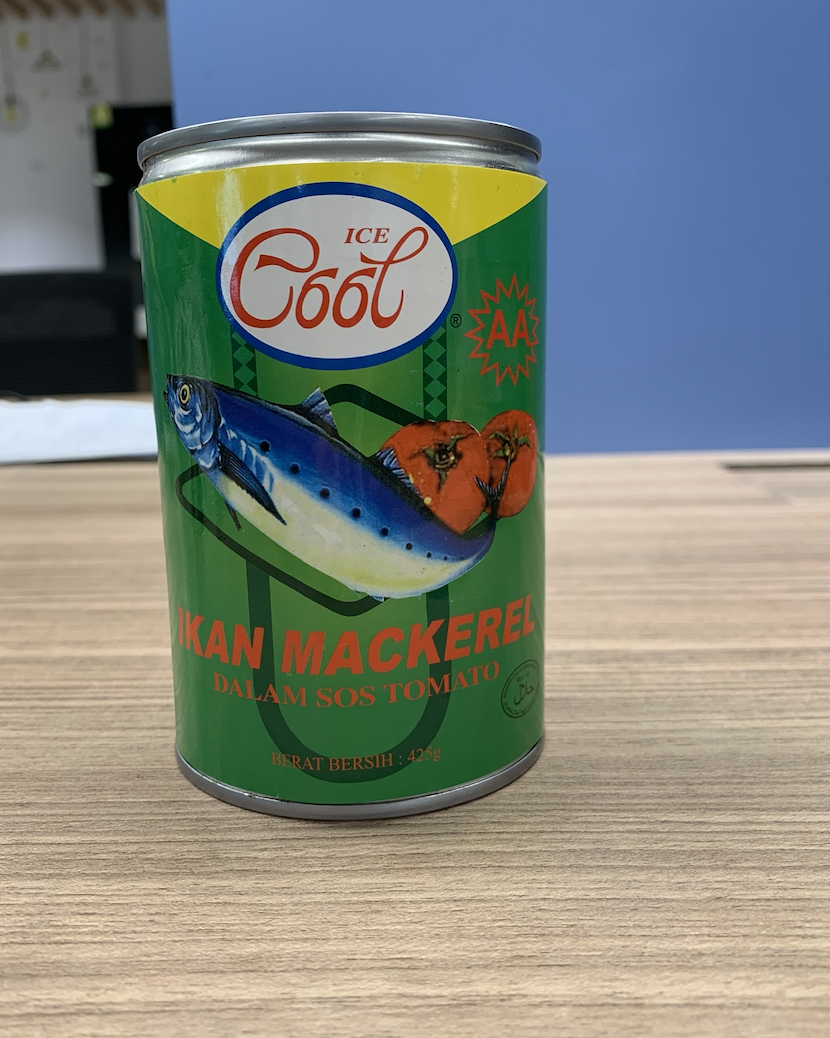sardines_400g-499g: (167, 180, 536, 773)
